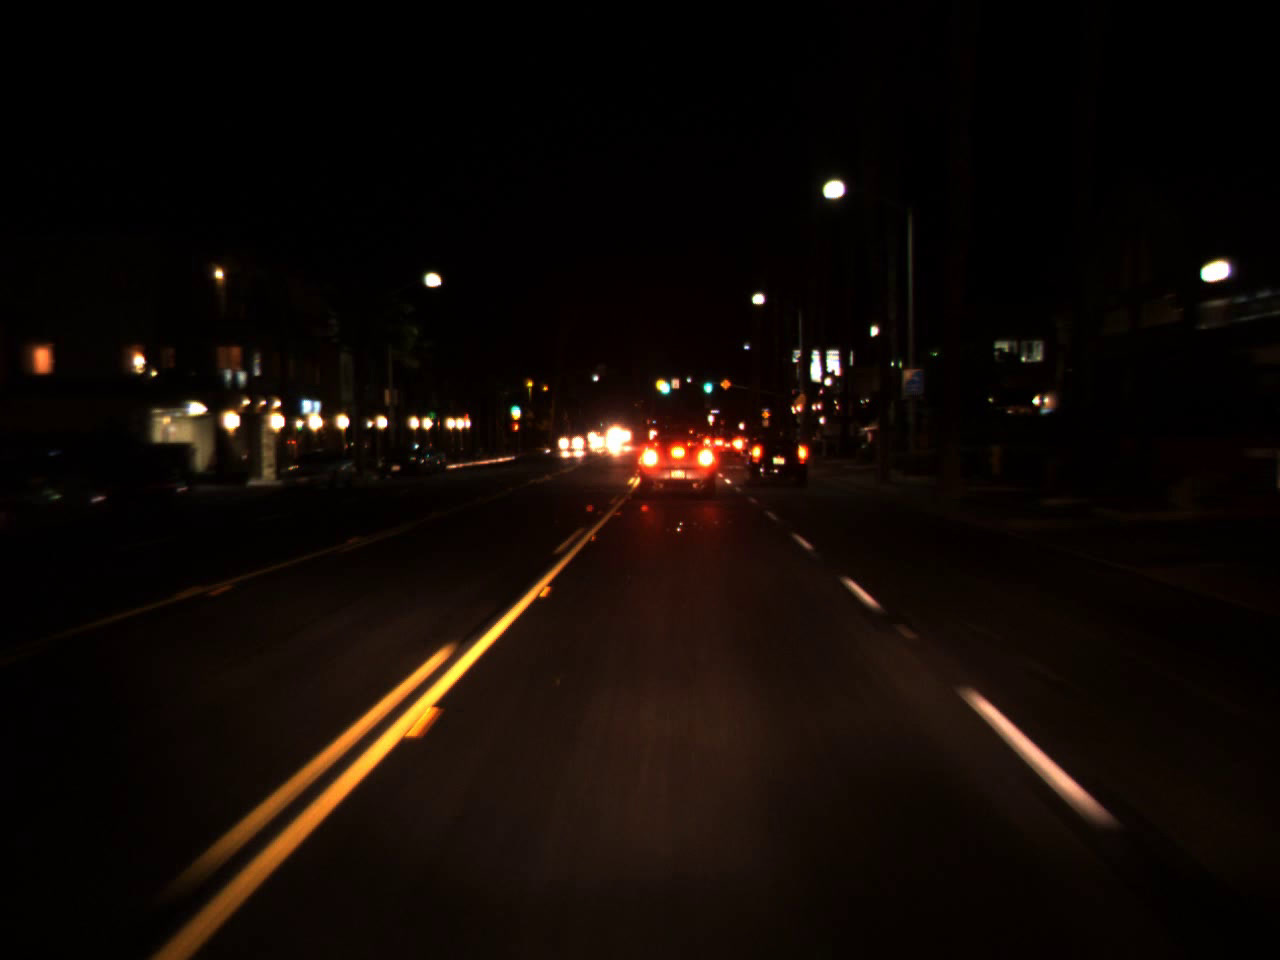go: (656, 370, 672, 397), (700, 372, 714, 396), (508, 400, 520, 412)
